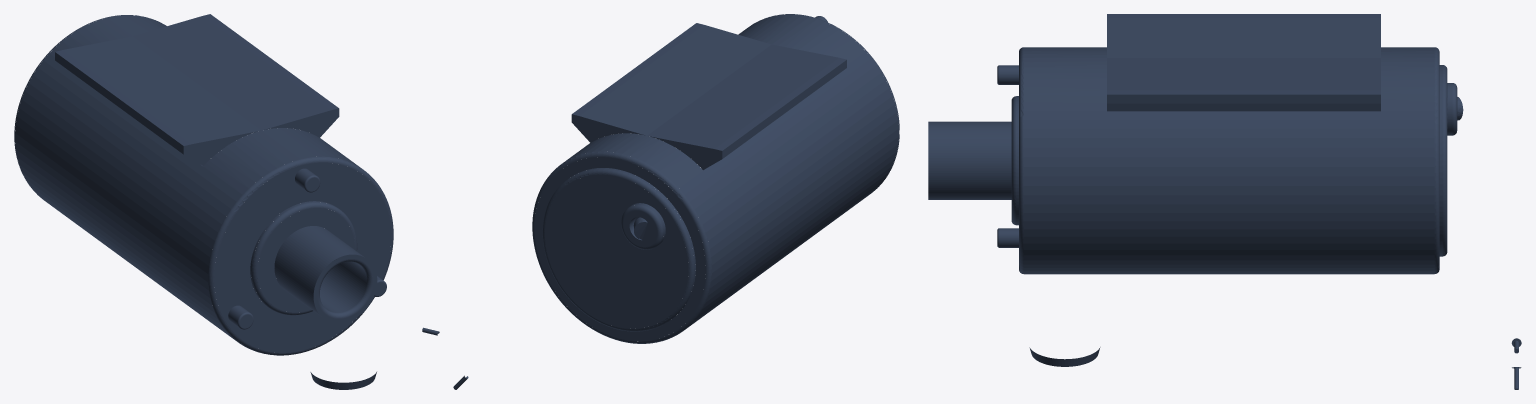
Rendered from pump.glb.
3 renders of one model, left to right at view 1: azimuth 30°, elevation 25°; view 2: azimuth 150°, elevation 25°; view 3: azimuth 270°, elevation 25°, orthographic. The views are drawn at different scales.
Parts seen in each view (by area): view 1: Created by Gmsh; view 2: Created by Gmsh; view 3: Created by Gmsh.
Boxes of the visible parts, bbox=[...] form: Created by Gmsh: bbox=[14, 14, 393, 389]; Created by Gmsh: bbox=[422, 14, 899, 389]; Created by Gmsh: bbox=[928, 14, 1521, 389].
Size of the model in its own units: 0.4885 by 0.4516 by 0.9095.
